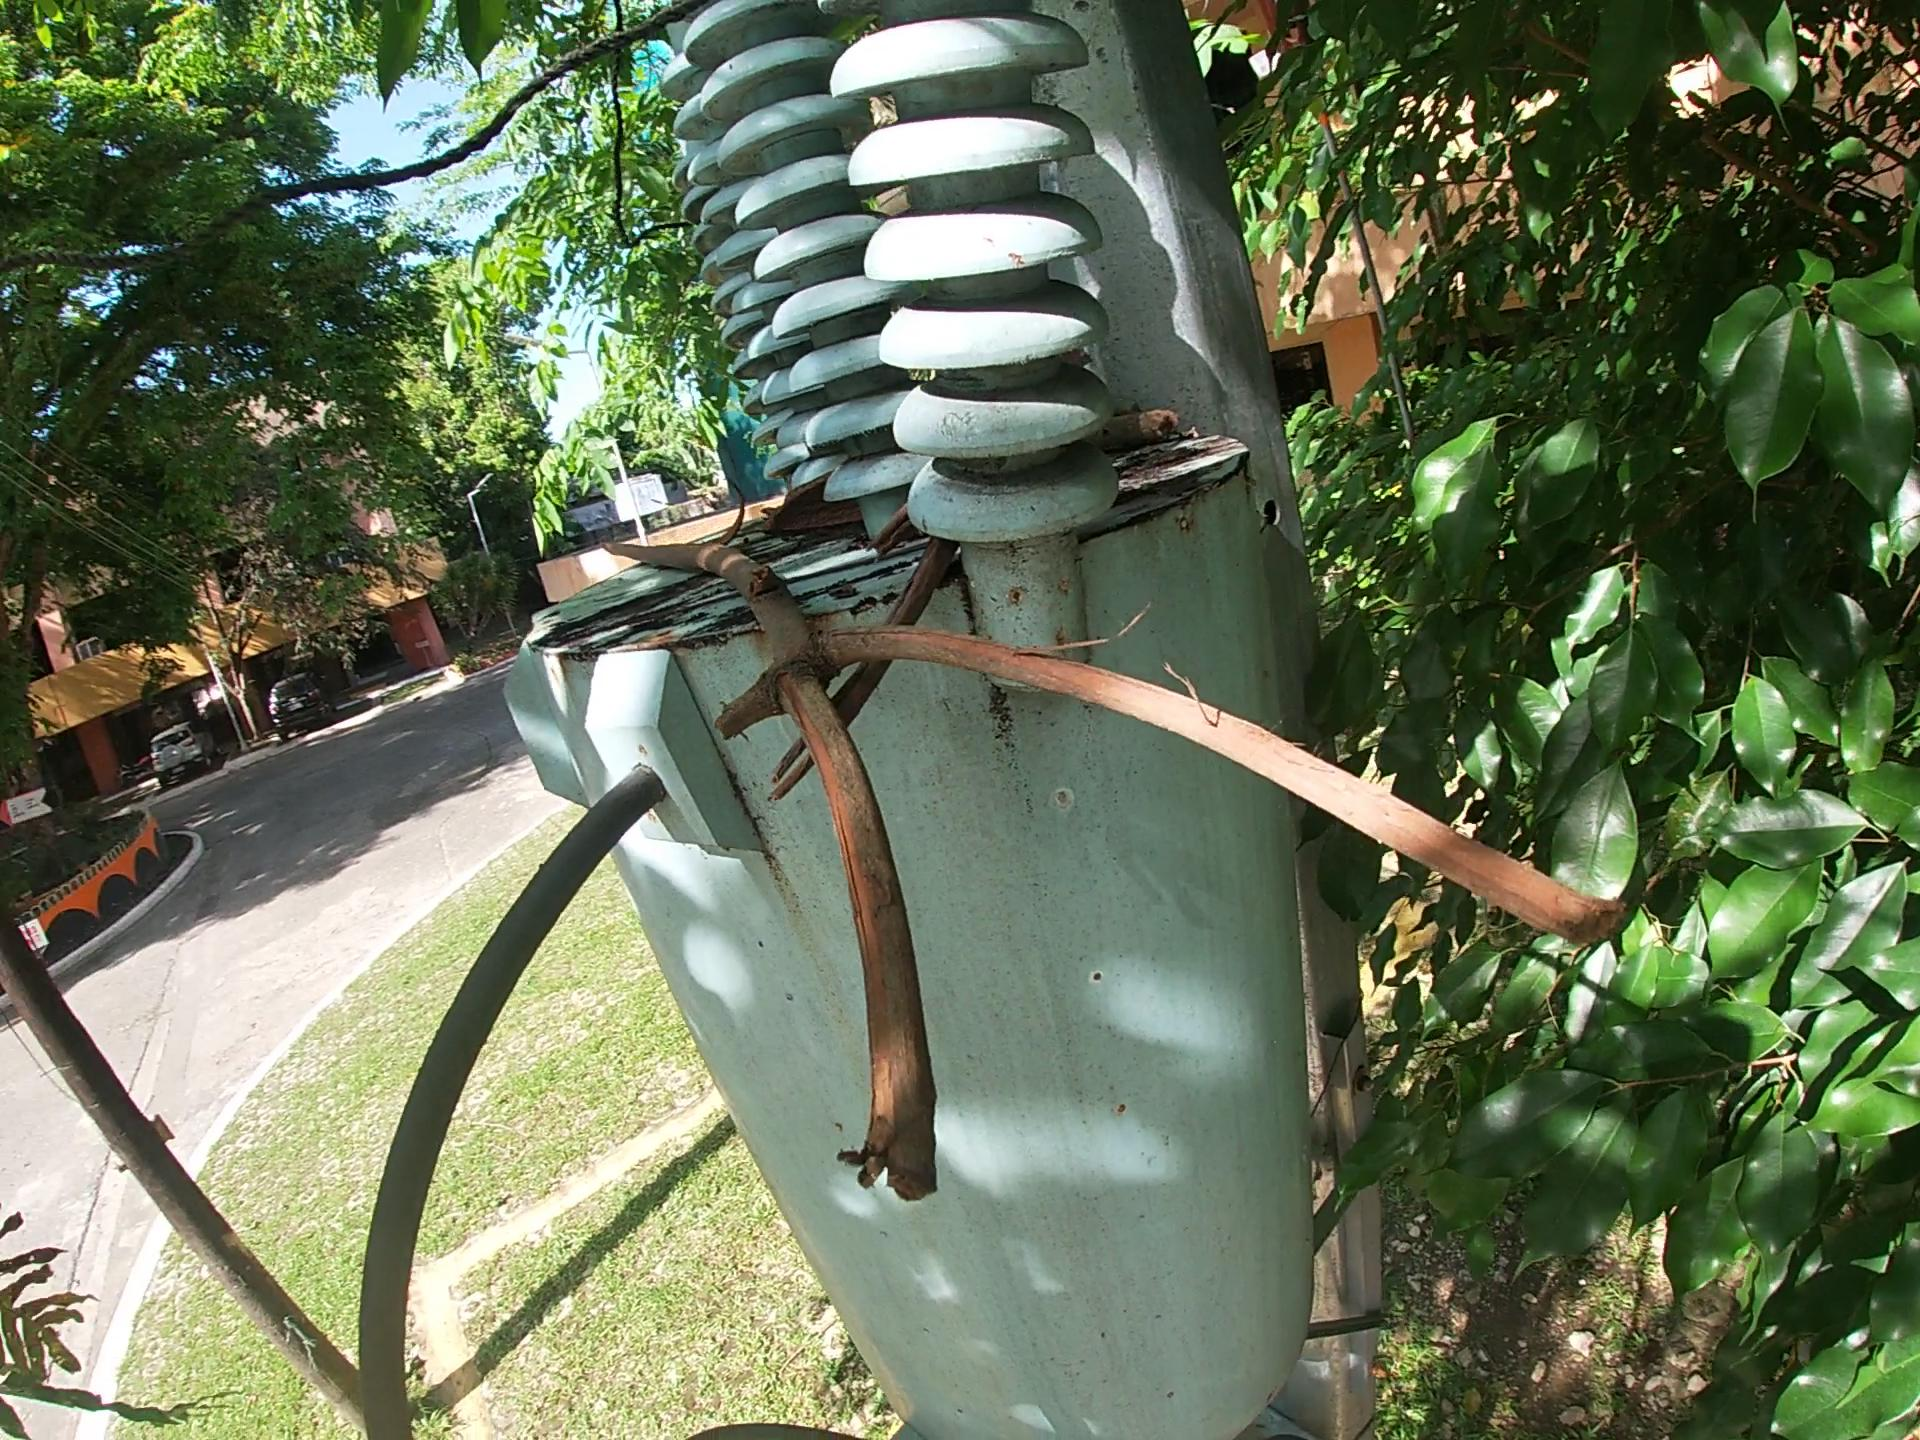mahogany fruit: (760, 467, 865, 542), (711, 475, 748, 545)
tree branch: (597, 532, 1640, 1213), (760, 498, 965, 824), (1092, 402, 1184, 458)
